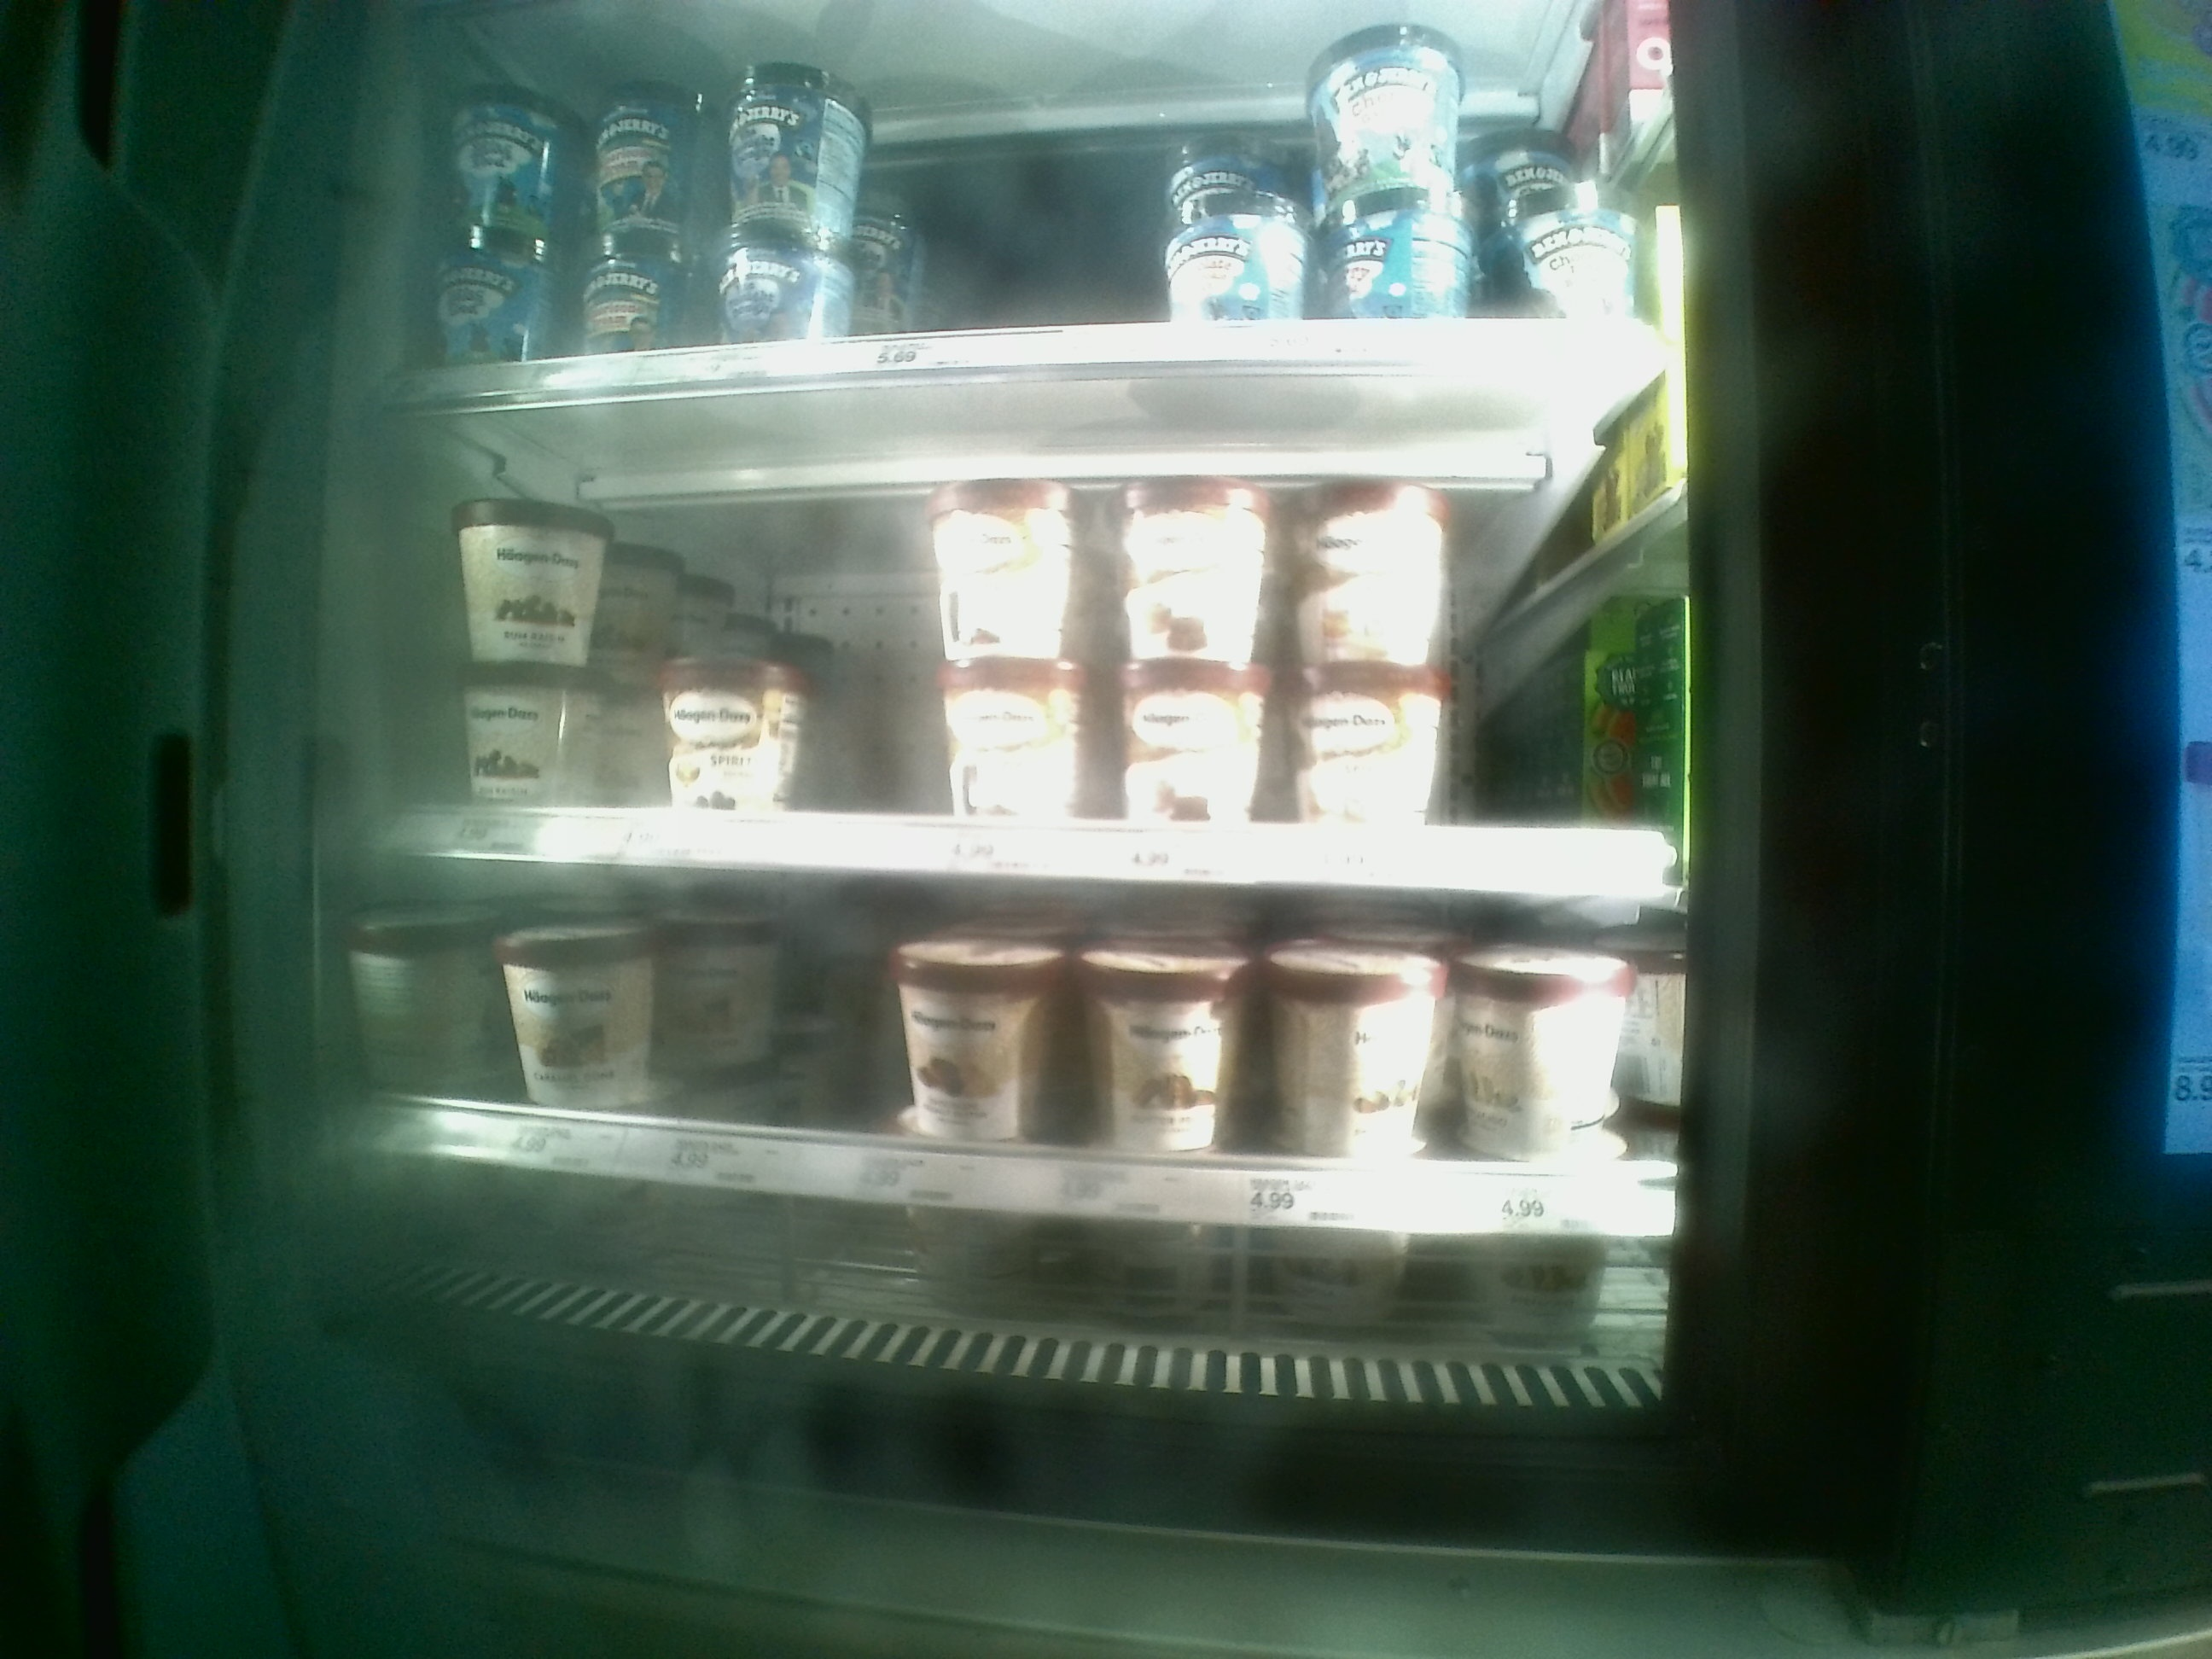ice-cream-shelf: (383, 396, 1672, 870), (387, 857, 1689, 1251)
